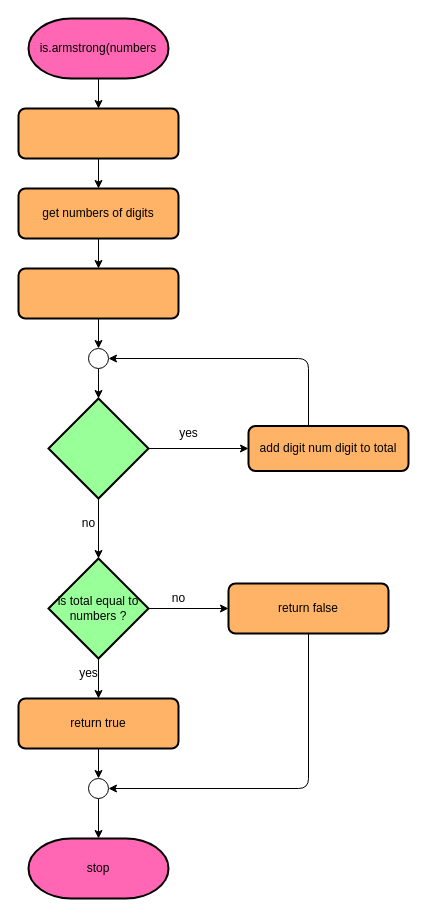
The diagram is 426 pixels wide and 916 high, and some of its shapes have lost their labels. The shapes that lost their labels are listed below. From the top down, each one's centre as x and y in pixels, then its label:
(98,133): convert number to string
(98,293): initalize total to 0
(98,448): for each digit in string
